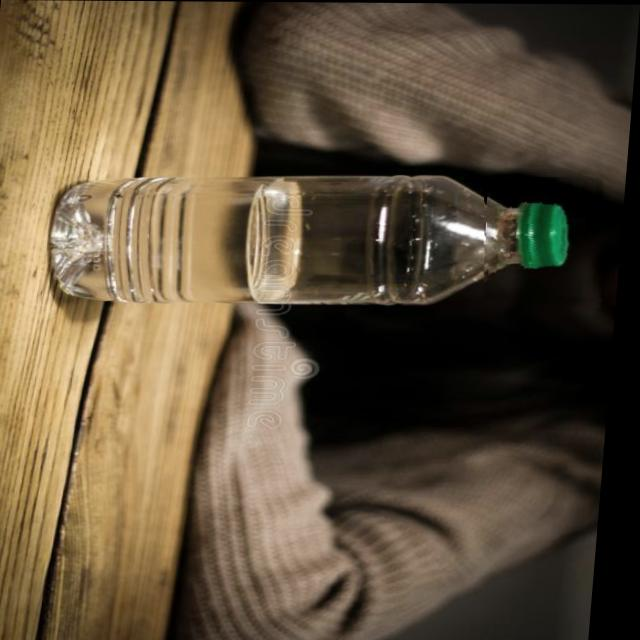litter: (482, 176, 613, 308)
